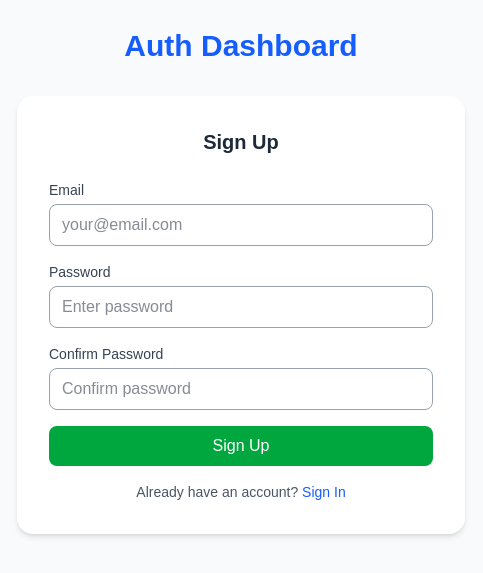
Signup Flow › should show error for invalid email
Type "notanemail" into the field with placeholder "your@email.com".
click(241, 225); type("notanemail")  # box [49, 204, 433, 246]
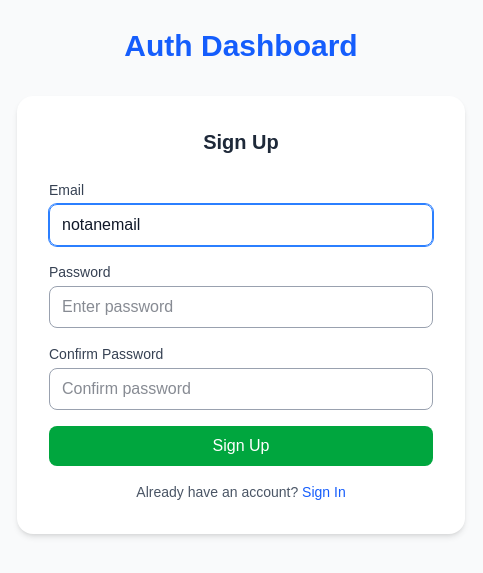
Type "password123" into the password field with placeholder "Enter password".
click(241, 307); type("password123")  # box [49, 286, 433, 328]
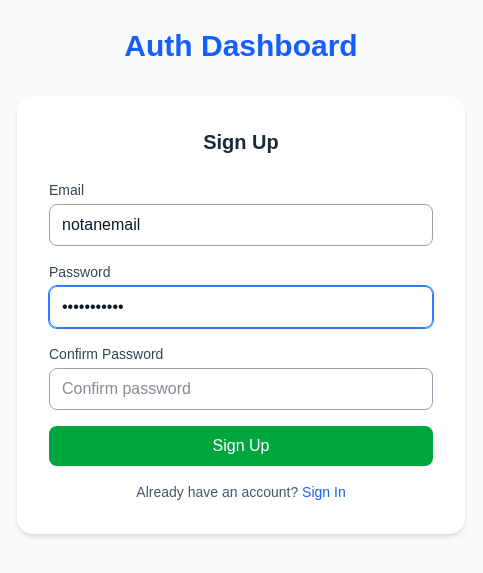
Type "password123" into the password field with placeholder "Confirm password".
click(241, 389); type("password123")  # box [49, 368, 433, 410]
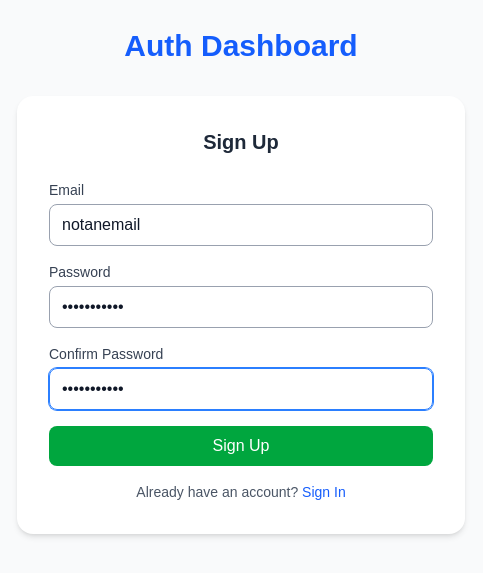
Click the submit button.
click(241, 446)  # box [49, 426, 433, 466]
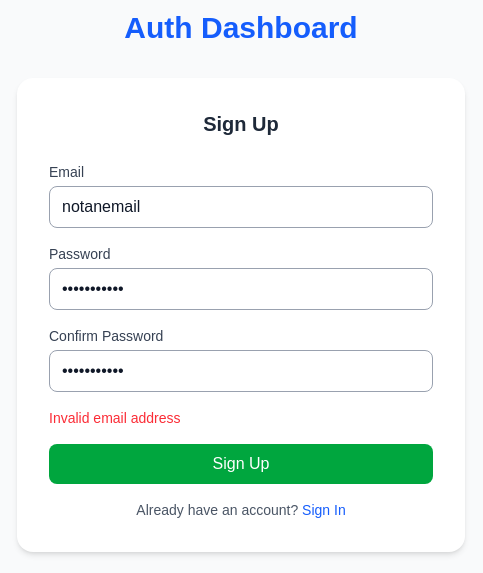
Check: the text "Invalid email address" is shown, box [49, 410, 180, 426]
